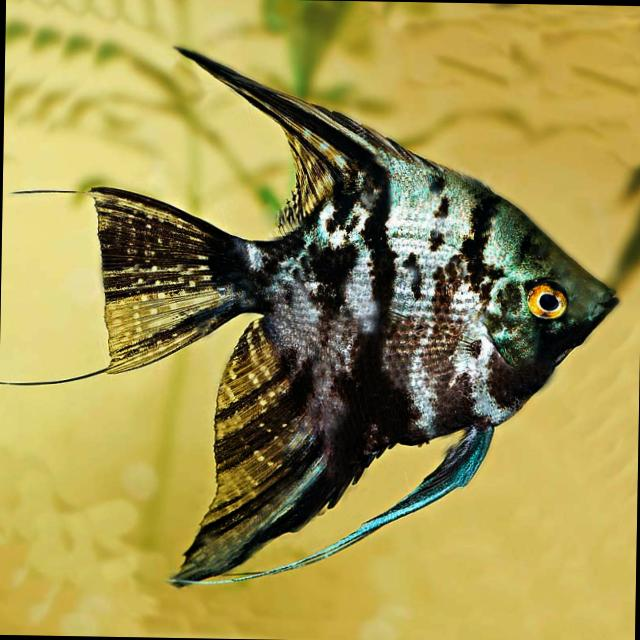AngelFish: (87, 42, 626, 594)
